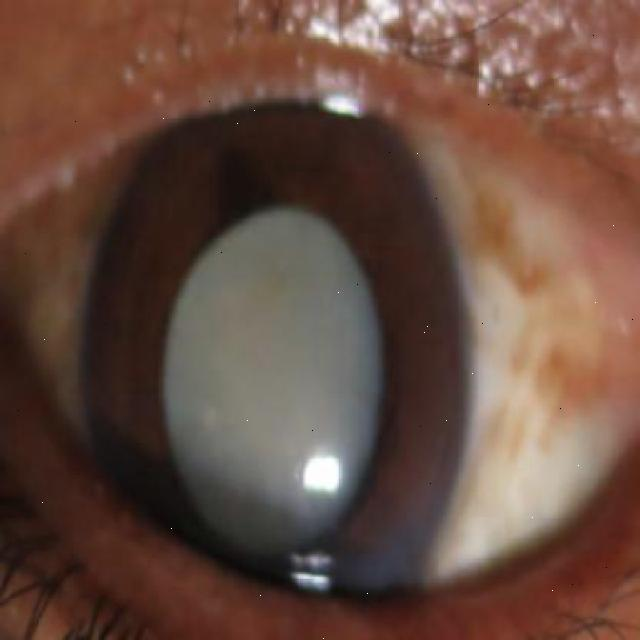Cataract: (83, 85, 474, 620)
